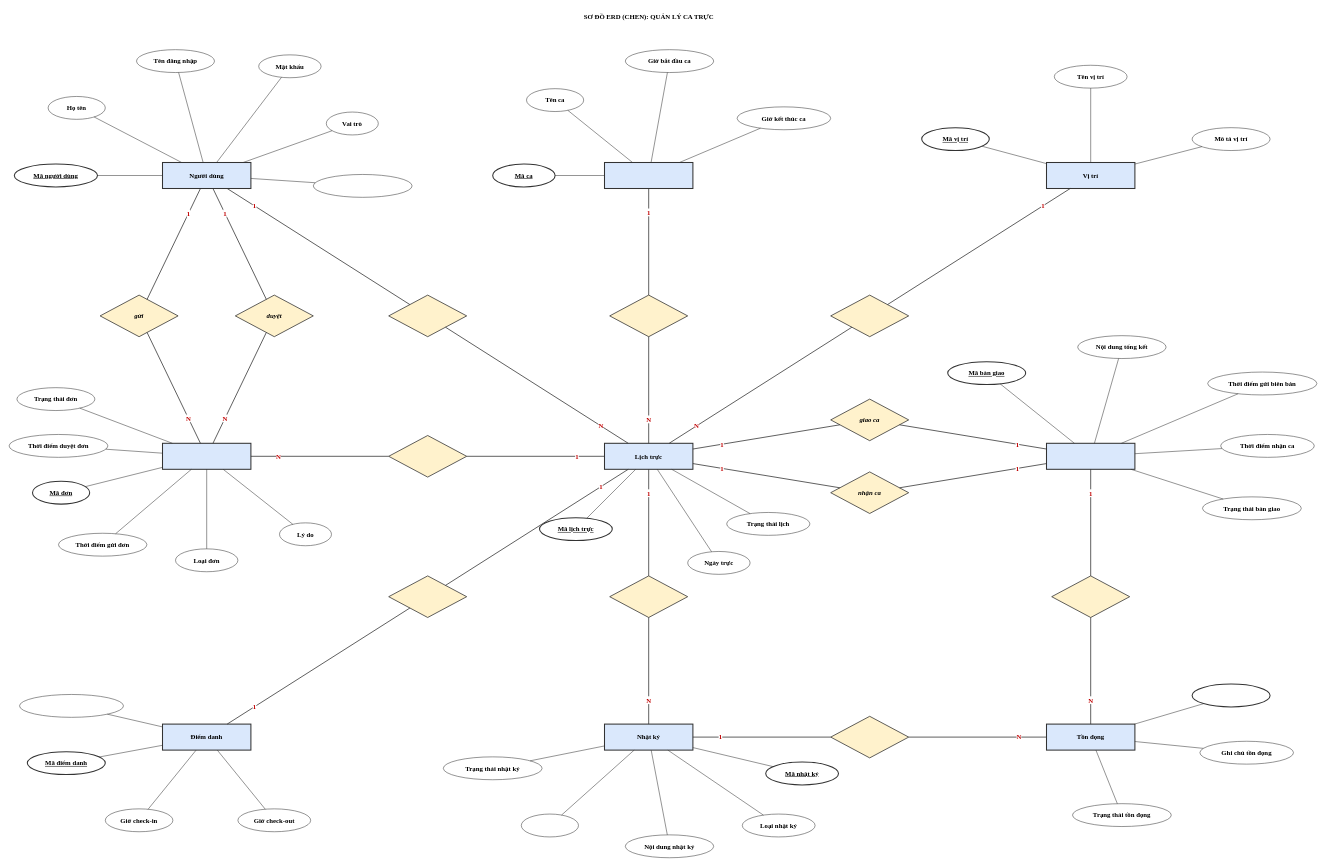
This 1326x867 diagram has some shape labels left out. Here are the shapes that lost their labels. From the top down, the box of each, then its label:
(313, 174, 412, 197): Trạng thái tài khoản
(604, 162, 693, 189): Ca
(388, 294, 467, 337): được phân công
(609, 294, 688, 337): chứa
(830, 294, 909, 337): bố trí
(162, 443, 251, 470): Đơn đổi ca
(388, 435, 467, 477): nhắm tới
(1046, 443, 1135, 470): Bàn giao
(388, 575, 467, 618): được điểm danh
(609, 575, 688, 618): ghi nhận
(1051, 575, 1130, 618): chuyển
(19, 694, 124, 717): Trạng thái điểm danh
(1191, 683, 1270, 707): Mã tồn đọng
(830, 716, 909, 758): trở thành
(521, 814, 578, 837): Mức độ
